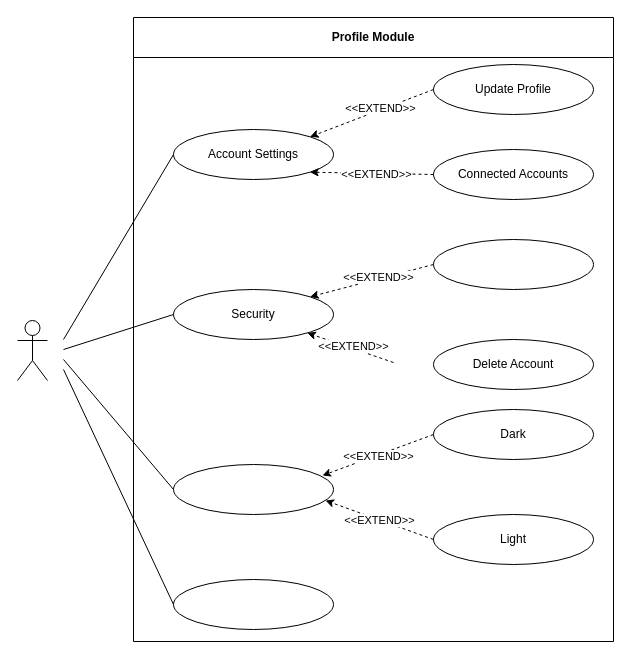
Some shapes in this 631 by 659 pixel diagram are drawn without their labels. The shapes that lost their labels are listed below. From the top down, each one's centre as x and y in pixels, then its label:
(x=513, y=264): Active Device Management
(x=32, y=350): User
(x=253, y=489): Theme
(x=253, y=604): Sign Out
